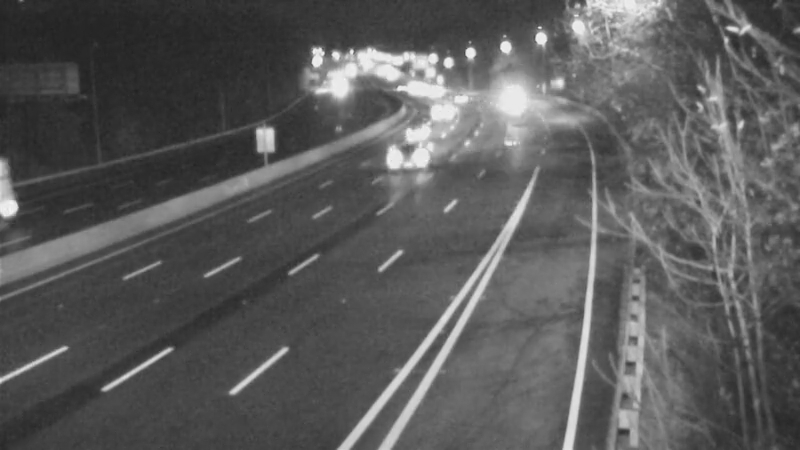vehicle: (374, 120, 454, 200), (405, 65, 455, 115), (429, 72, 479, 122), (483, 75, 533, 125), (411, 87, 461, 137), (390, 106, 440, 156)
